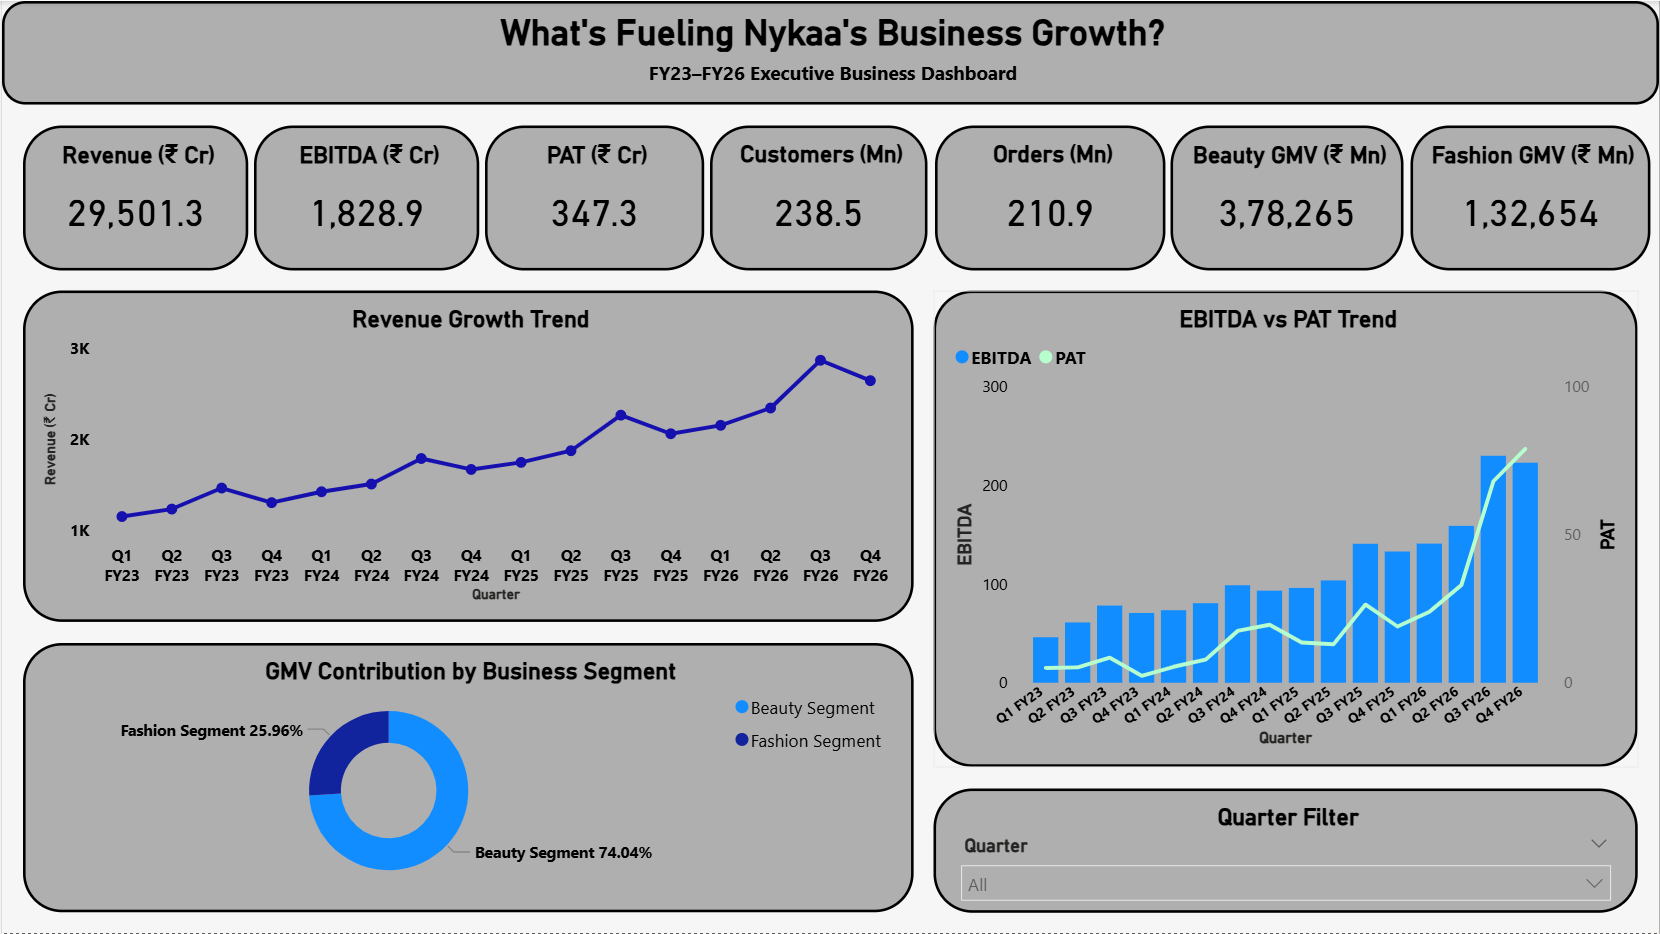

Layout of this report page (visuals, bound fields, positions):
{"tool":"powerbi","page":{"name":"Executive_Overview","canvas":[1280,720],"ordinal":0},"visuals":[{"type":"textbox","title":"What''s Fueling Nykaa''s Business Growth?","box":[0,0,1280,80],"z":0},{"type":"card","title":"Revenue (₹ Cr)","fields":{"Values":["Sum(nykaa_master.revenue_cr)"]},"box":[16,96,174,112],"z":1000},{"type":"card","title":"EBITDA (₹ Cr)","fields":{"Values":["Sum(nykaa_master.ebitda_cr)"]},"box":[194.8,96,174,112],"z":2000},{"type":"card","title":"PAT (₹ Cr)","fields":{"Values":["Sum(nykaa_master.pat_cr)"]},"box":[373.7,96,169,112],"z":3000},{"type":"card","title":"Customers (Mn)","fields":{"Values":["Sum(nykaa_master.total_autc)"]},"box":[547.5,96,168,112],"z":4000},{"type":"card","title":"Orders (Mn)","fields":{"Values":["Sum(nykaa_master.total_orders)"]},"box":[720.3,96,178,112],"z":5000},{"type":"card","title":"Beauty GMV (₹ Mn)","fields":{"Values":["Sum(nykaa_master.beauty_gmv)"]},"box":[903.2,96,180,112],"z":6000},{"type":"card","title":"Fashion GMV (₹ Mn)","fields":{"Values":["Sum(nykaa_master.fashion_gmv)"]},"box":[1088,96,185,112],"z":7000},{"type":"lineChart","title":"Revenue Growth Trend","fields":{"Category":["nykaa_master.quarter"],"Y":["Sum(nykaa_master.revenue_cr)"]},"box":[16,224,688,256],"z":8000},{"type":"lineClusteredColumnComboChart","title":"EBITDA vs PAT Trend","fields":{"Category":["nykaa_master.quarter"],"Y2":["Sum(nykaa_master.pat_cr)"],"Y":["Sum(nykaa_master.ebitda_cr)"]},"box":[720,224,544,368],"z":9000},{"type":"donutChart","title":"GMV Contribution by Business Segment","fields":{"Y":["Sum(nykaa_master.beauty_gmv)","Sum(nykaa_master.fashion_gmv)"]},"box":[16,496,688,208],"z":10000},{"type":"slicer","title":"Quarter Filter","fields":{"Values":["nykaa_master.quarter"]},"box":[720,608,544,96],"z":11000}]}

Visuals, with their boxes in screenshot pixels (x1, y1, x2, y2), scaled from the page's 1280x720 canvas onto the 1660x934 screenshot:
"What''s Fueling Nykaa''s Business Growth?" textbox: x1=0, y1=0, x2=1659, y2=104
"Revenue (₹ Cr)" card: x1=21, y1=125, x2=246, y2=270
"EBITDA (₹ Cr)" card: x1=253, y1=125, x2=478, y2=270
"PAT (₹ Cr)" card: x1=485, y1=125, x2=704, y2=270
"Customers (Mn)" card: x1=710, y1=125, x2=928, y2=270
"Orders (Mn)" card: x1=934, y1=125, x2=1165, y2=270
"Beauty GMV (₹ Mn)" card: x1=1171, y1=125, x2=1405, y2=270
"Fashion GMV (₹ Mn)" card: x1=1411, y1=125, x2=1651, y2=270
"Revenue Growth Trend" lineChart: x1=21, y1=291, x2=913, y2=623
"EBITDA vs PAT Trend" lineClusteredColumnComboChart: x1=934, y1=291, x2=1639, y2=768
"GMV Contribution by Business Segment" donutChart: x1=21, y1=643, x2=913, y2=913
"Quarter Filter" slicer: x1=934, y1=789, x2=1639, y2=913
